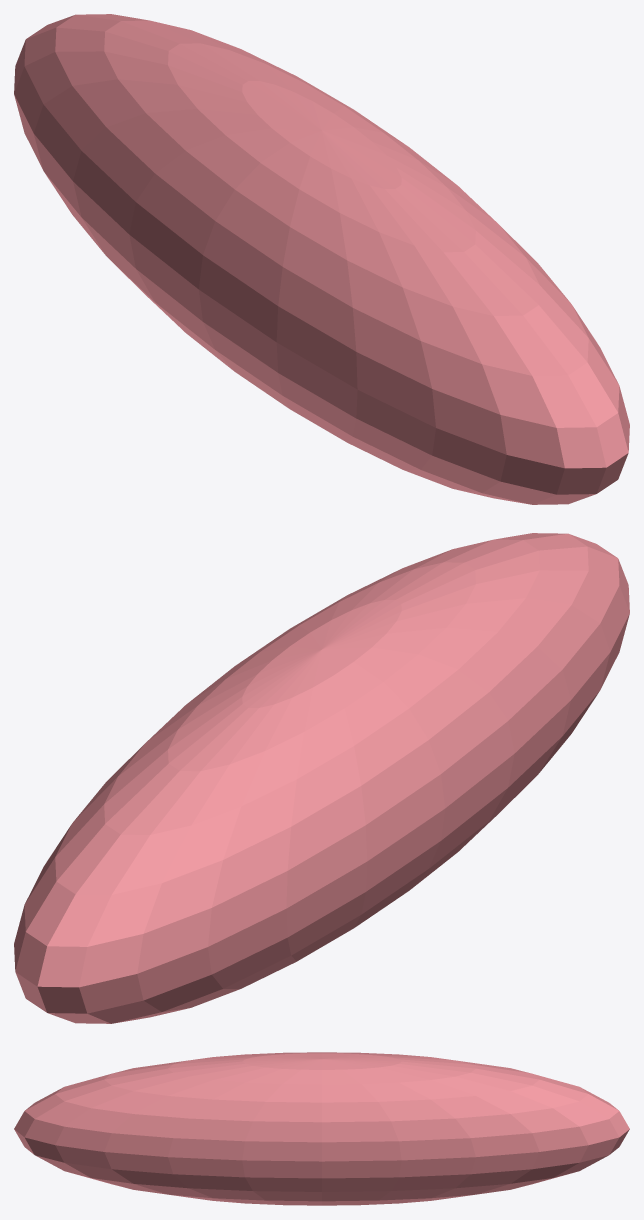
File: chromosome.glb
The picture shows the model from 3 angles, top to bottom: view 1: azimuth 30°, elevation 25°; view 2: azimuth 150°, elevation 25°; view 3: azimuth 270°, elevation 25°; orthographic projection. The views are drawn at different scales.
Parts seen in each view (by area): view 1: Sphere; view 2: Sphere; view 3: Sphere.
Part boxes in pixels (x1,y1,x2,y2): Sphere: (14, 14, 629, 504); Sphere: (14, 533, 629, 1023); Sphere: (14, 1052, 629, 1205).
Size of the model in its own units: 0.04 by 0.04 by 0.16.
